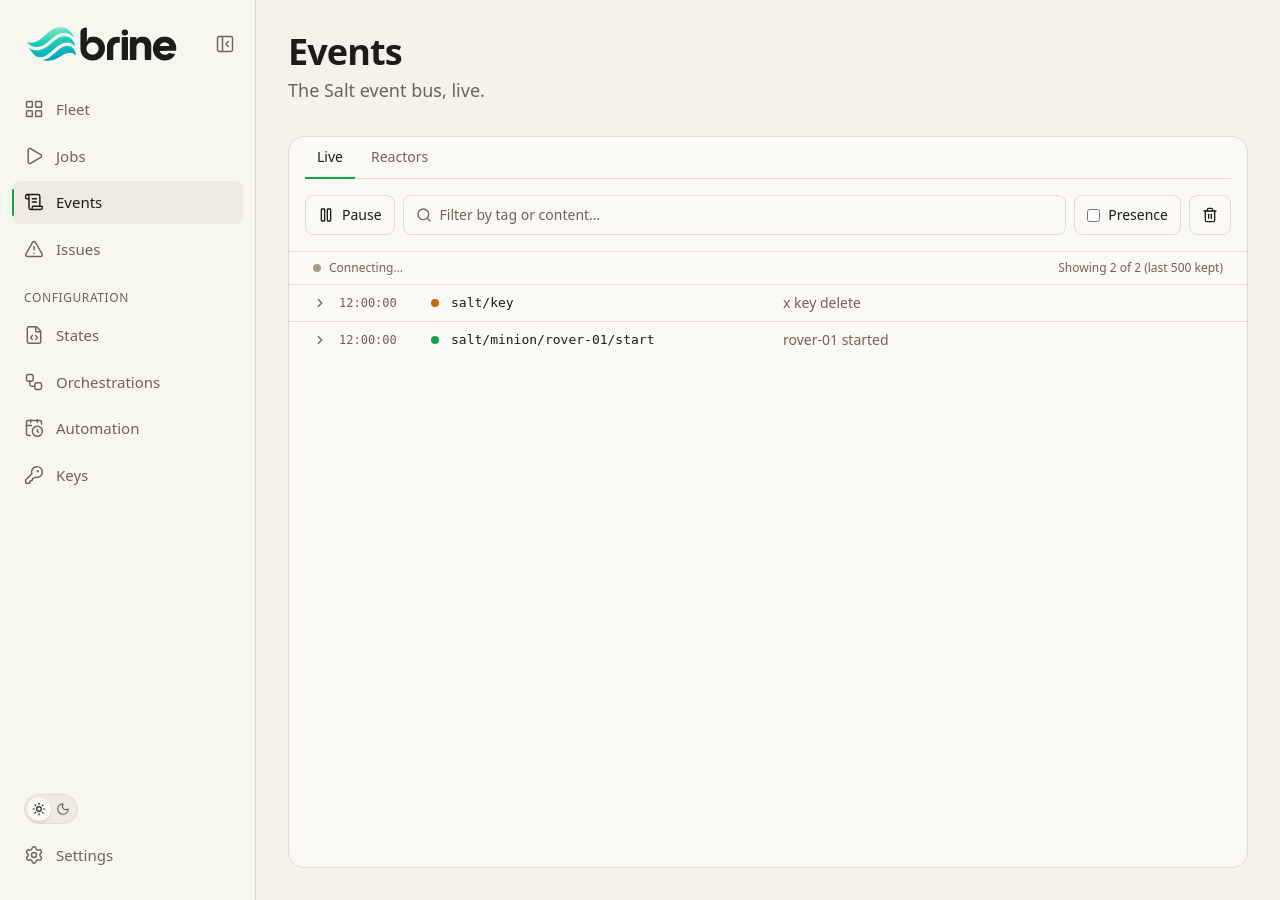
Test: EventsPage › drops duplicates re-sent after a reconnect, and filters
This screenshot has width=1280, height=900.
Expected: the text "Showing 2 of 2 (last 500 kept)" is shown, [1058, 260, 1223, 276]
Type "rover-01" into the search field named "Filter events". click: (746, 215)
box: [440, 205, 1053, 225]
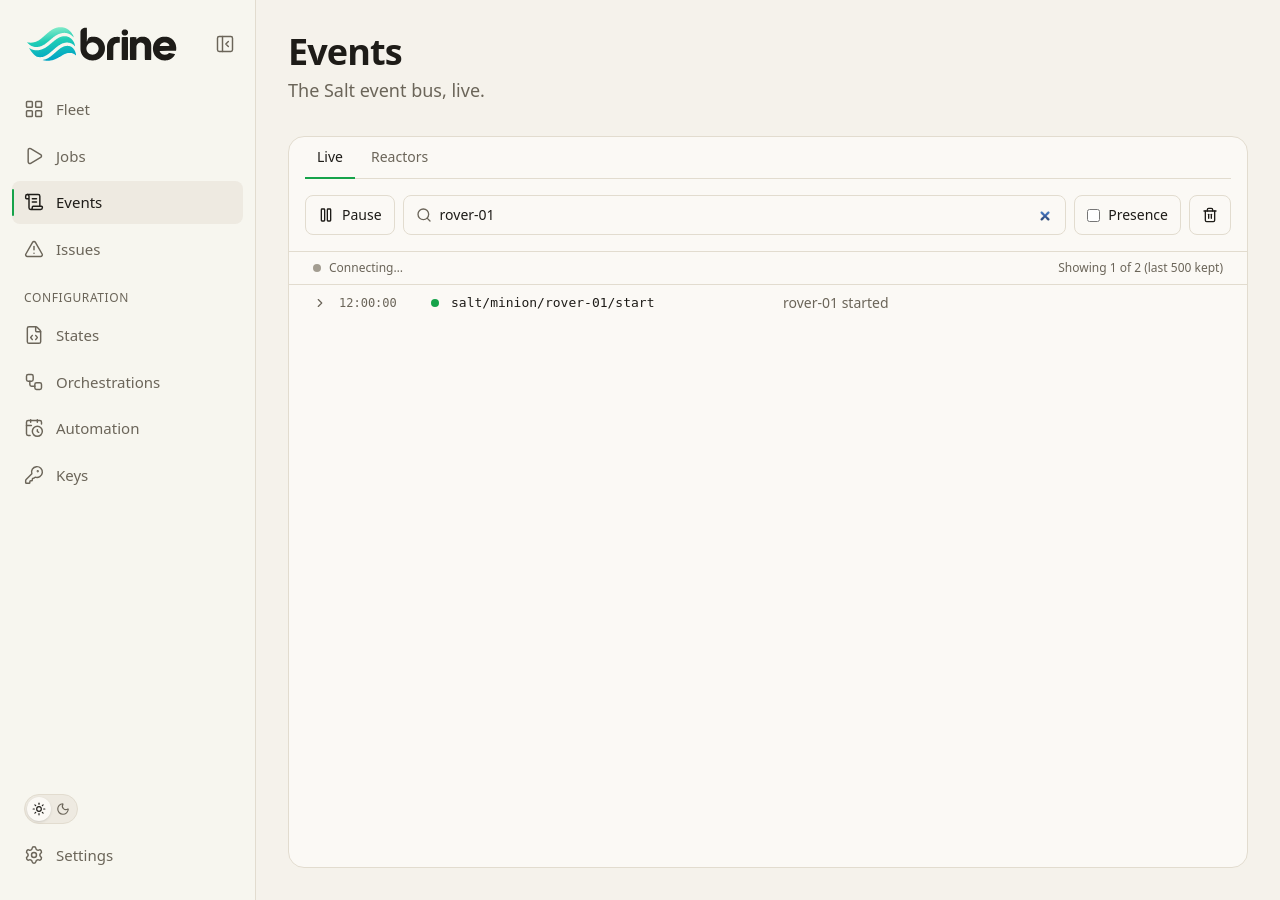
Expected: the text "Showing 1 of 2 (last 500 kept)" is shown, [1058, 260, 1223, 276]
